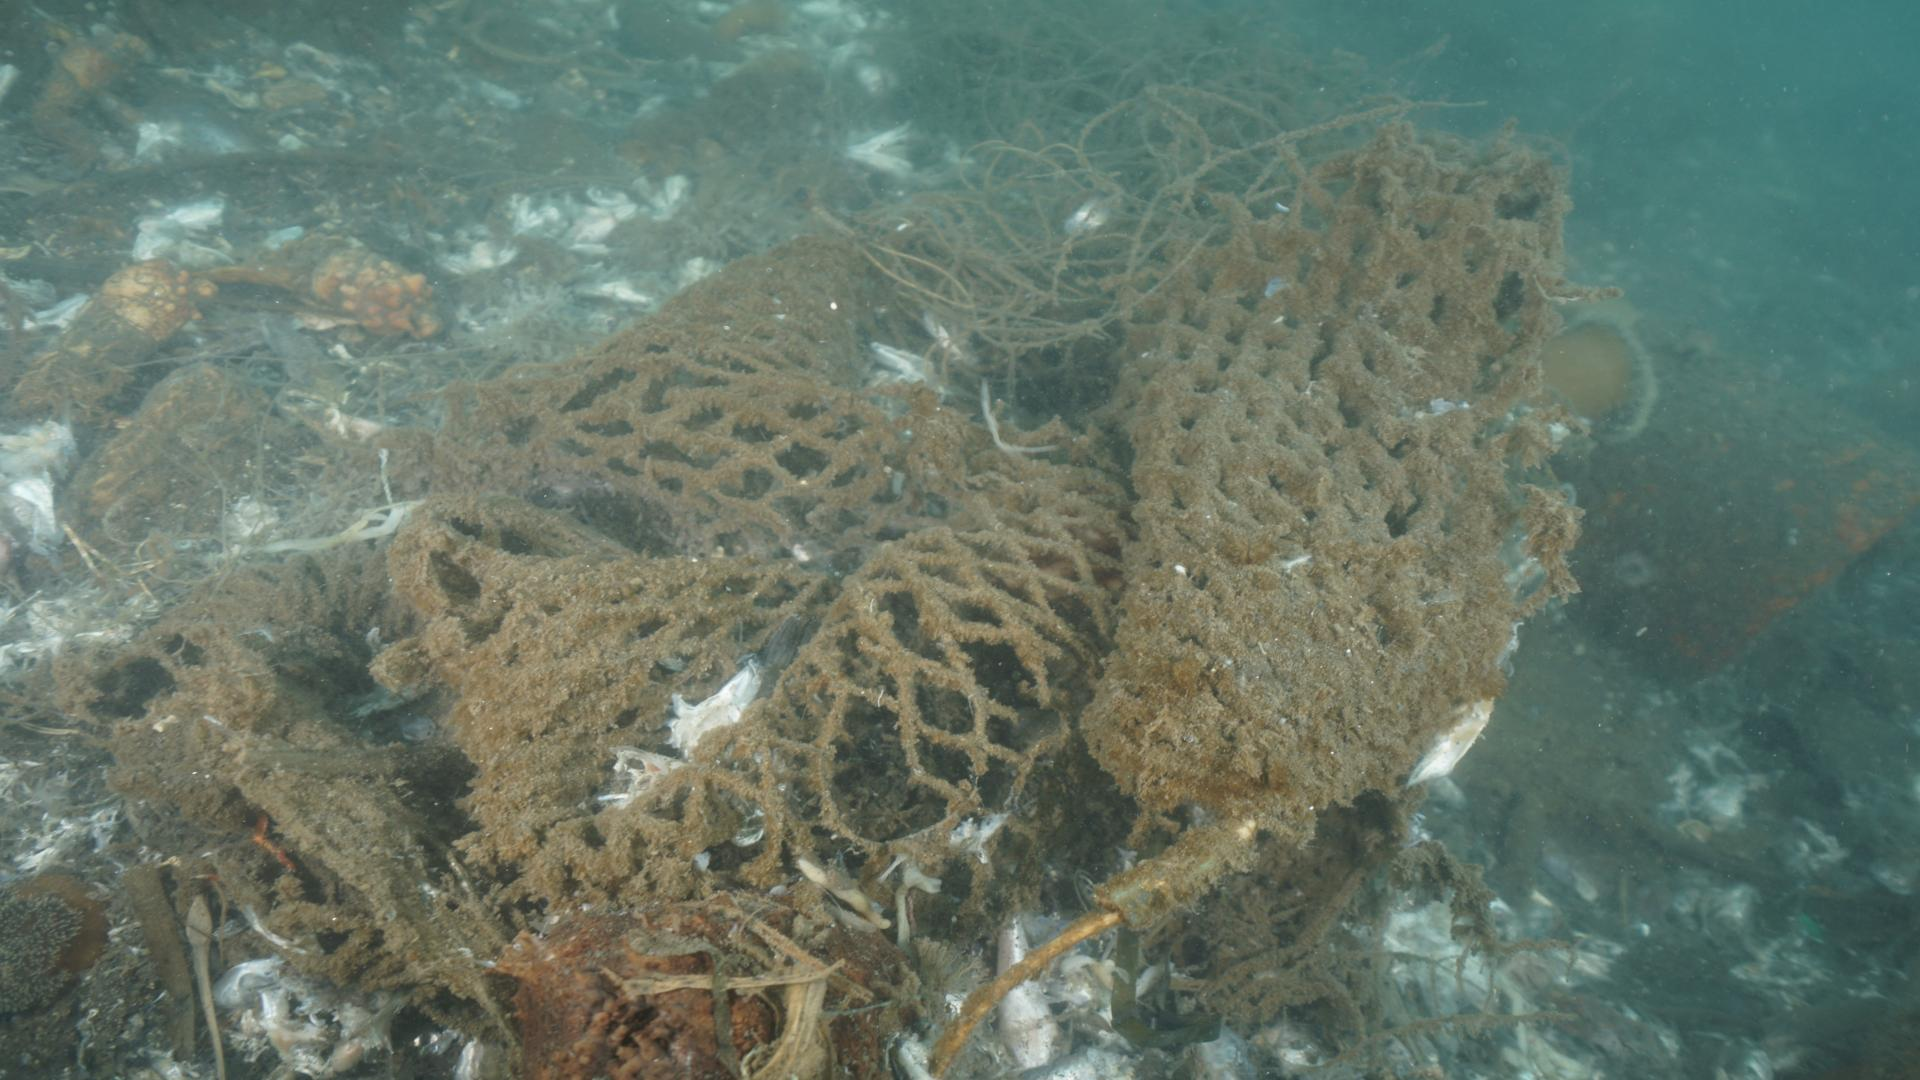fish net: (363, 123, 1585, 1062)
